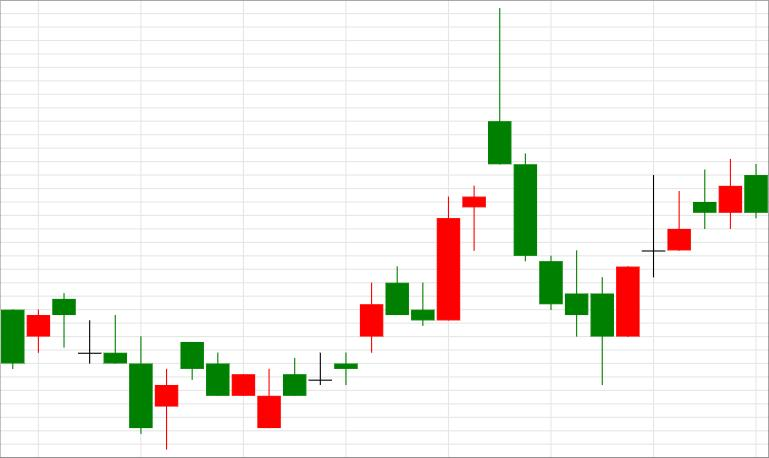shooting_star_fall: (411, 7, 511, 326)
